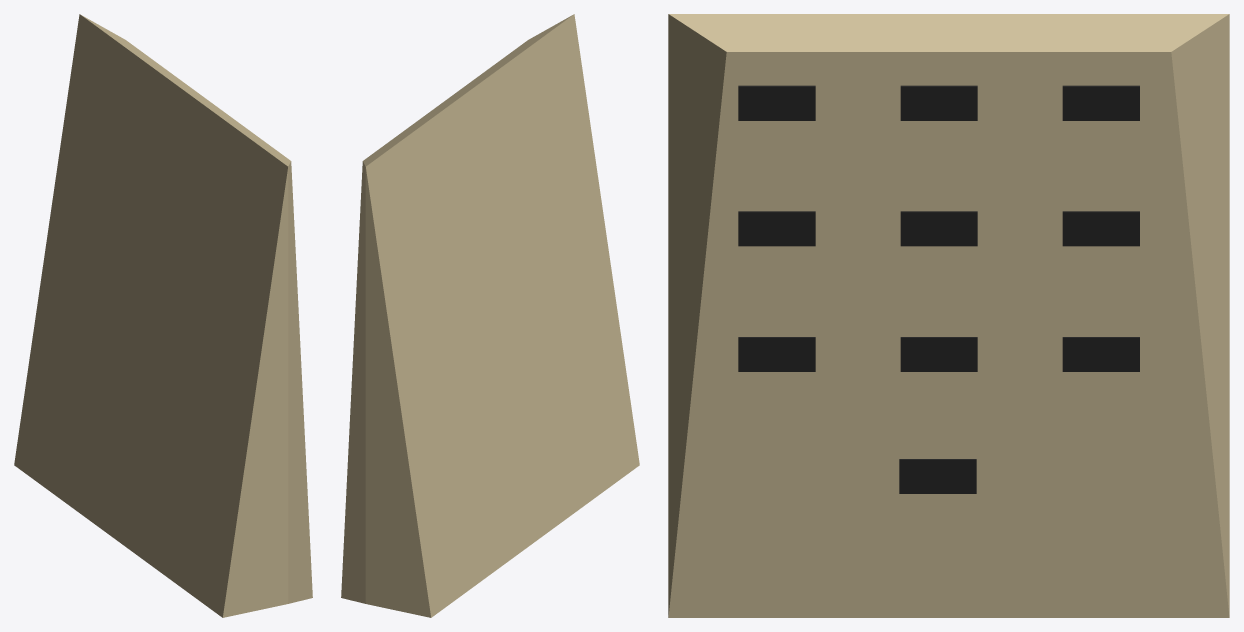
Rendered from buttonPanel.fbx.
The picture shows the model from 3 angles, left to right: view 1: azimuth 30°, elevation 25°; view 2: azimuth 150°, elevation 25°; view 3: azimuth 270°, elevation 25°; orthographic projection. The views are drawn at different scales.
Visible parts, largest first — view 1: Cube; view 2: Cube; view 3: Cube, Cube.001, Cube.002.
Boxes of the visible parts, x1,y1,x2,y2 form: Cube: [14, 14, 312, 617]; Cube: [341, 14, 639, 617]; Cube: [668, 14, 1229, 617]; Cube.001: [738, 85, 1139, 371]; Cube.002: [899, 459, 976, 493].
Bounding box in the file's own units: 47.36 × 214 × 186.
